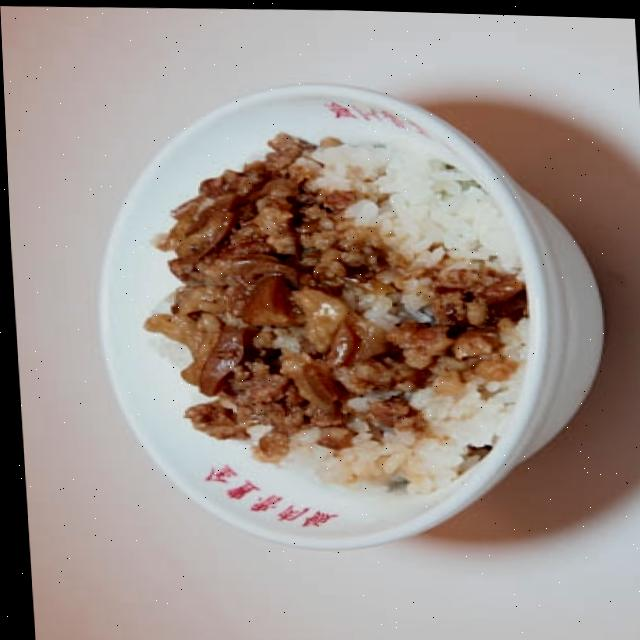猪肉菜式: (115, 83, 574, 563)
